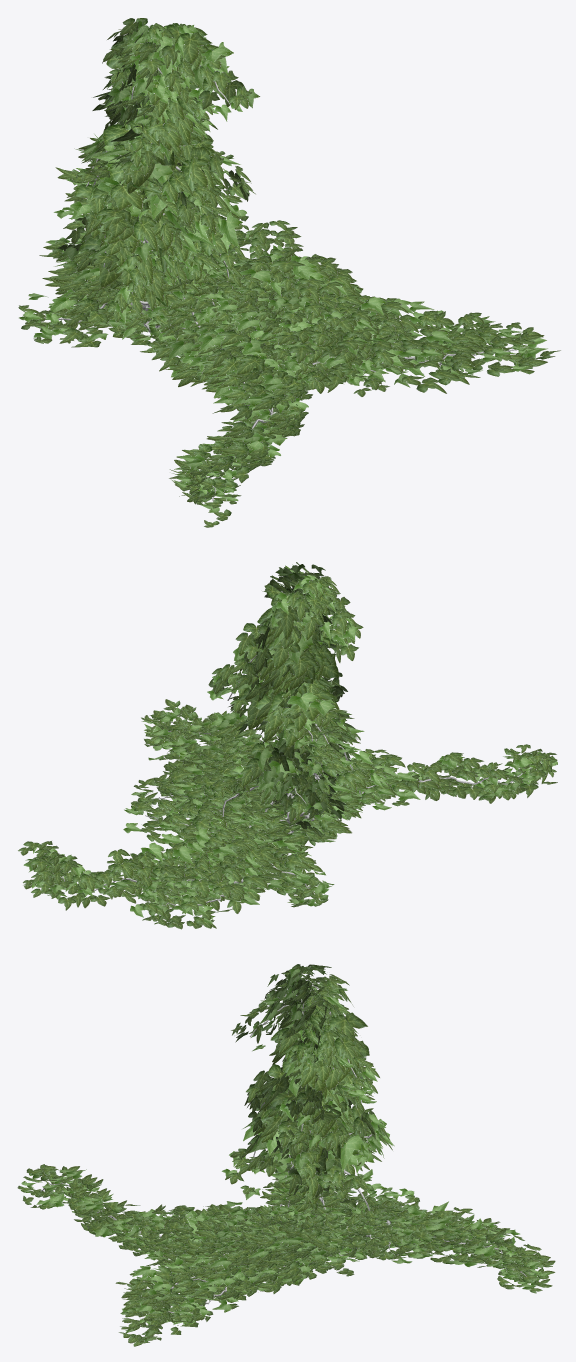
File: IVYStyAndTelegraphPole01b.fbx
3 renders of one model, top to bottom at view 1: azimuth 30°, elevation 25°; view 2: azimuth 150°, elevation 25°; view 3: azimuth 270°, elevation 25°, orthographic. The views are drawn at different scales.
Visible parts, largest first — view 1: default; view 2: default; view 3: default.
Part boxes in pixels (<box>): default: <box>18,18,560,527</box>; default: <box>18,562,557,929</box>; default: <box>17,964,555,1346</box>.
Bounding box in the file's own units: 442 × 343 × 598.
